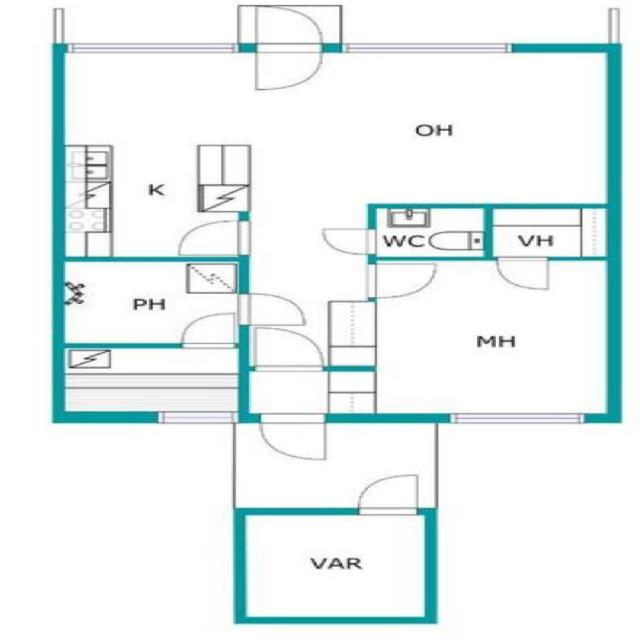door: (256, 43, 322, 90), (256, 6, 322, 52), (255, 328, 322, 371), (260, 414, 324, 459), (358, 474, 418, 516), (178, 221, 249, 255), (366, 264, 436, 297), (238, 294, 304, 324), (181, 313, 234, 348), (497, 256, 546, 289), (323, 230, 376, 254)
